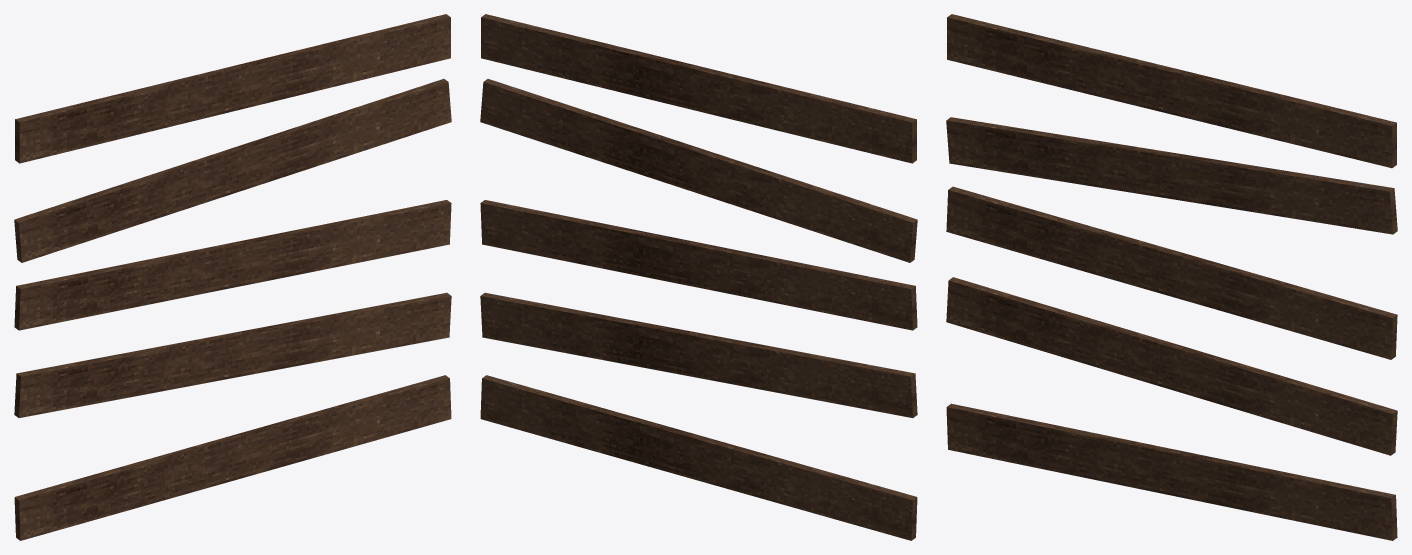
File: planks_double_door.glb
3 renders of one model, left to right at view 1: azimuth 30°, elevation 25°; view 2: azimuth 150°, elevation 25°; view 3: azimuth 330°, elevation 25°, orthographic. The views are drawn at different scales.
Parts seen in each view (by area): view 1: planks_double_door2; view 2: planks_double_door2; view 3: planks_double_door2.
Part boxes in pixels (bbox=[...]): planks_double_door2: bbox=[14, 14, 451, 540]; planks_double_door2: bbox=[480, 14, 917, 540]; planks_double_door2: bbox=[946, 14, 1397, 540].
Bounding box in the file's own units: 2.21 × 2.04 × 0.04.
1 material, 1 textured.
